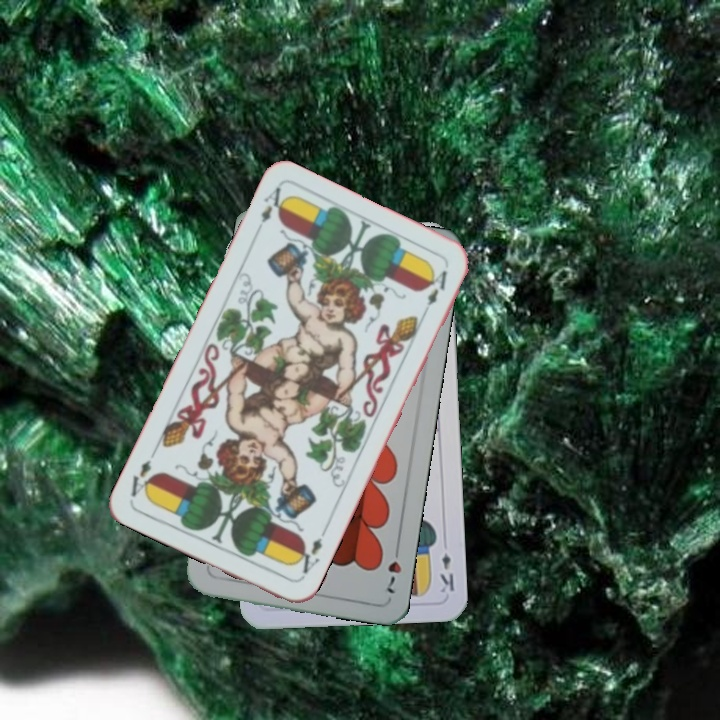EA: (291, 526, 329, 582), (257, 182, 290, 226)
EK: (436, 549, 457, 595)
H7: (382, 540, 404, 596)
